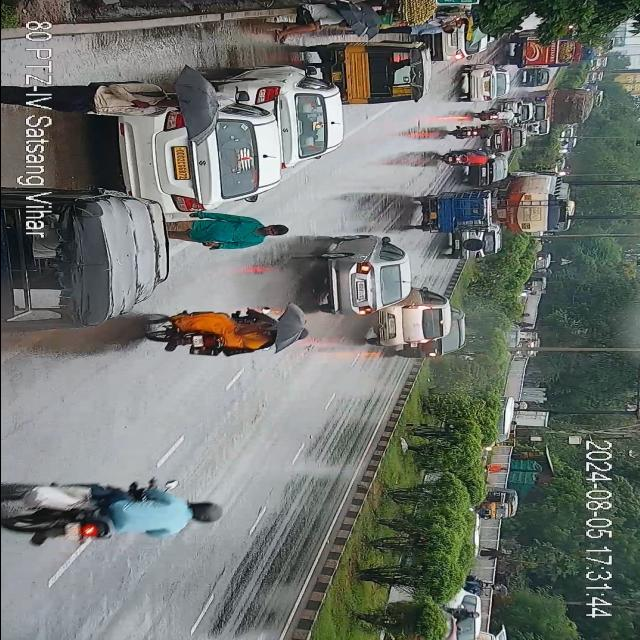2-wheelers: (2, 477, 232, 545), (134, 308, 307, 354), (436, 150, 494, 172), (446, 124, 496, 142), (478, 108, 518, 123)
auto: (0, 182, 177, 319), (320, 40, 428, 108), (413, 192, 487, 235), (476, 489, 520, 522)
bus: (504, 32, 582, 70)
car: (110, 96, 276, 215), (237, 68, 343, 164), (313, 234, 411, 320), (375, 285, 457, 350), (430, 24, 485, 62), (462, 64, 510, 106), (447, 228, 500, 261), (468, 154, 508, 188), (492, 124, 524, 152), (522, 70, 552, 88), (504, 97, 532, 112), (527, 121, 551, 138), (532, 97, 546, 121)
pedestrian: (55, 82, 214, 116), (170, 218, 284, 247), (272, 4, 354, 39), (380, 22, 454, 40)
truck: (492, 170, 576, 237), (541, 90, 589, 126)
